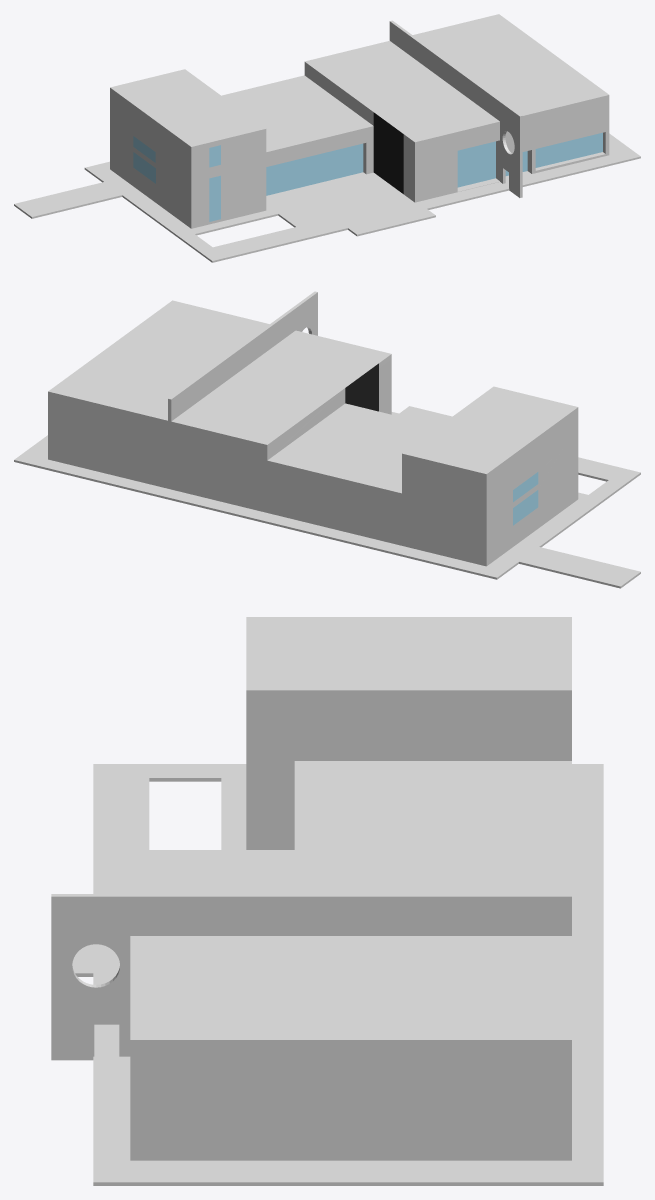
Rendered from EdificioPesado.fbx.
3 views of the same model, one above another, from view 1: azimuth 30°, elevation 25°; view 2: azimuth 150°, elevation 25°; view 3: azimuth 270°, elevation 25° (orthographic). The views are drawn at different scales.
Visible parts, largest first — view 1: Cube.001, Plane.003; view 2: Cube.001, Plane.003; view 3: Cube.001, Plane.003.
Part boxes in pixels (bbox=[...]): Cube.001: bbox=[110, 14, 609, 228]; Plane.003: bbox=[14, 133, 640, 262]; Cube.001: bbox=[48, 291, 578, 566]; Plane.003: bbox=[14, 406, 640, 588]; Cube.001: bbox=[51, 617, 571, 1160]; Plane.003: bbox=[72, 764, 603, 1185].
Size of the model in its own units: 299 by 46.12 by 138.
